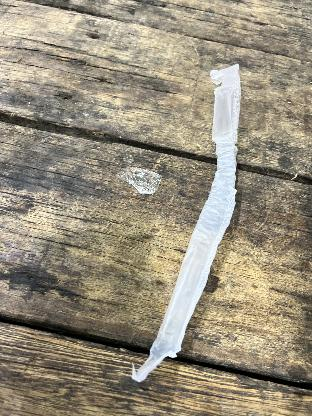Others: (124, 60, 240, 382)
